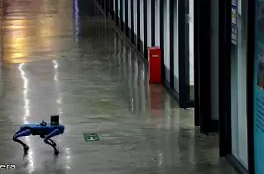robot dog: (12, 113, 65, 156)
